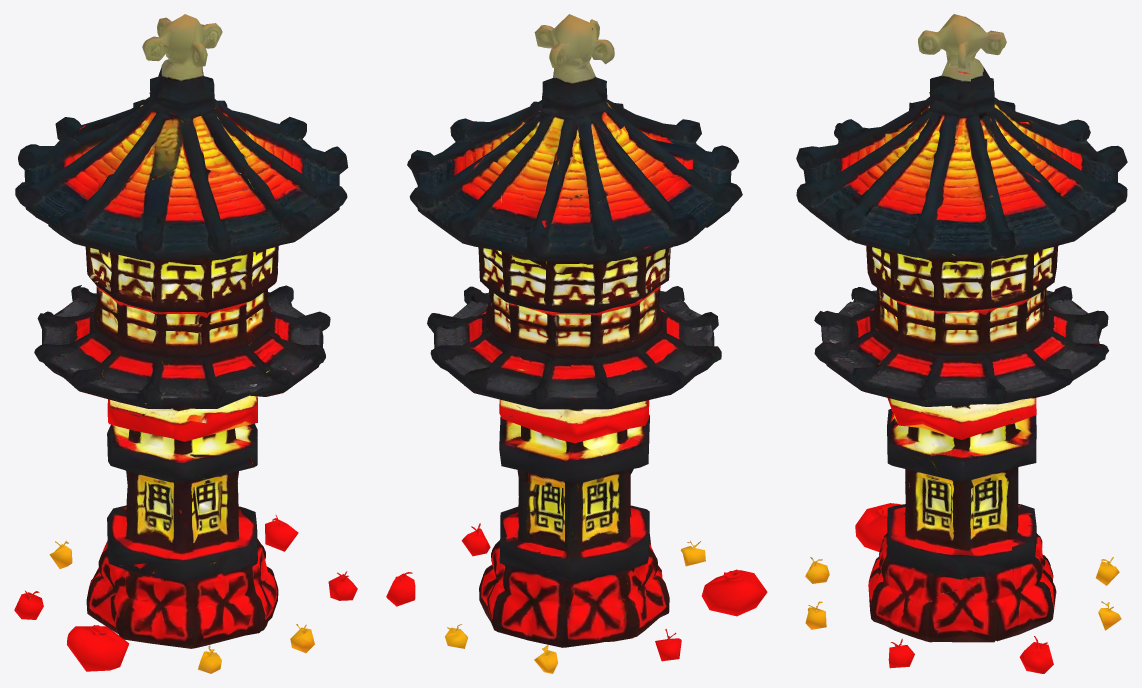
The model's file is stone_lantern_small.glb.
3 views of the same model, side by side, from view 1: azimuth 30°, elevation 25°; view 2: azimuth 150°, elevation 25°; view 3: azimuth 270°, elevation 25° (orthographic).
Bounding box in the file's own units: 0.9898 × 1.9 × 0.9621.
1 material, 1 textured.
